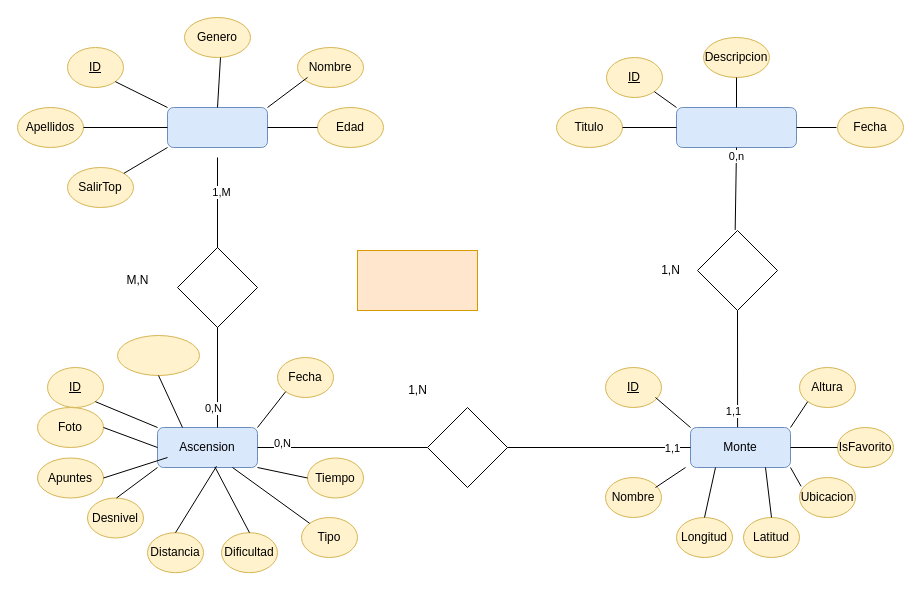
Some shapes in this 921 by 591 pixel diagram are drawn without their labels. Here are the shapes that lost their labels. From the top down, the centre of each, then its label:
At point 217,127: "Persona".
At point 736,127: "Calendario".
At point 217,287: "Completan".
At point 417,280: "SummitTrack Aimar Huici".
At point 737,270: "Planea".
At point 158,355: "Peligrosidad".
At point 467,447: "Asciende".
